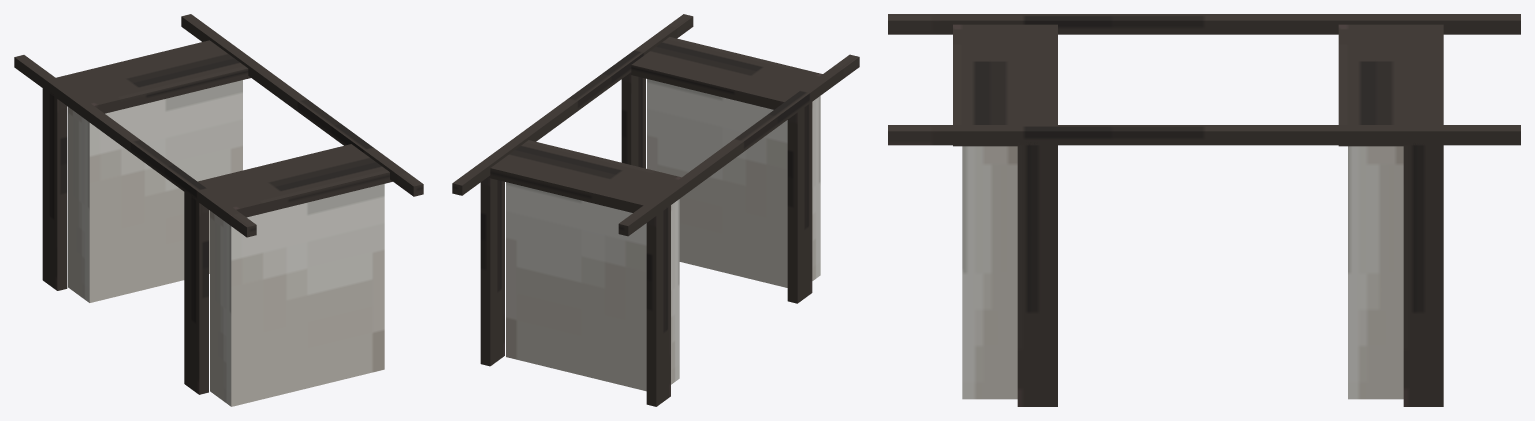
File: pz_house_bunk_foot.obj
3 views of the same model, side by side, from view 1: azimuth 30°, elevation 25°; view 2: azimuth 150°, elevation 25°; view 3: azimuth 270°, elevation 25° (orthographic). The views are drawn at different scales.
Visible parts, largest first — view 1: pz_house_bunk_foot_|_7_colchao, pz_house_bunk_foot_|_3_colchao, pz_house_bunk_foot_|_4_estrutura_madeira, pz_house_bunk_foot_|_8_estrutura_madeira, pz_house_bunk_foot_|_5_estrutura_madeira, pz_house_bunk_foot_|_1_estrutura_madeira, pz_house_bunk_foot_|_9_estrutura_madeira, pz_house_bunk_foot_|_2_estrutura_madeira; view 2: pz_house_bunk_foot_|_3_colchao, pz_house_bunk_foot_|_7_colchao, pz_house_bunk_foot_|_8_estrutura_madeira, pz_house_bunk_foot_|_4_estrutura_madeira, pz_house_bunk_foot_|_9_estrutura_madeira, pz_house_bunk_foot_|_1_estrutura_madeira, pz_house_bunk_foot_|_5_estrutura_madeira, pz_house_bunk_foot_|_6_estrutura_madeira, pz_house_bunk_foot_|_2_estrutura_madeira, pz_house_bunk_foot_|_10_estrutura_madeira; view 3: pz_house_bunk_foot_|_3_colchao, pz_house_bunk_foot_|_7_colchao, pz_house_bunk_foot_|_2_estrutura_madeira, pz_house_bunk_foot_|_1_estrutura_madeira, pz_house_bunk_foot_|_4_estrutura_madeira, pz_house_bunk_foot_|_10_estrutura_madeira, pz_house_bunk_foot_|_6_estrutura_madeira, pz_house_bunk_foot_|_8_estrutura_madeira.
Part boxes in pixels (box(x1,y1,x2,y2)): pz_house_bunk_foot_|_7_colchao: box(210, 184, 384, 406); pz_house_bunk_foot_|_3_colchao: box(68, 80, 242, 302); pz_house_bunk_foot_|_4_estrutura_madeira: box(56, 40, 250, 113); pz_house_bunk_foot_|_8_estrutura_madeira: box(197, 144, 392, 217); pz_house_bunk_foot_|_5_estrutura_madeira: box(42, 87, 67, 290); pz_house_bunk_foot_|_1_estrutura_madeira: box(14, 55, 256, 237); pz_house_bunk_foot_|_9_estrutura_madeira: box(184, 190, 208, 394); pz_house_bunk_foot_|_2_estrutura_madeira: box(181, 14, 423, 196); pz_house_bunk_foot_|_3_colchao: box(506, 182, 679, 391); pz_house_bunk_foot_|_7_colchao: box(647, 79, 820, 287); pz_house_bunk_foot_|_8_estrutura_madeira: box(629, 37, 822, 109); pz_house_bunk_foot_|_4_estrutura_madeira: box(488, 140, 681, 212); pz_house_bunk_foot_|_9_estrutura_madeira: box(787, 102, 812, 303); pz_house_bunk_foot_|_1_estrutura_madeira: box(618, 54, 859, 236); pz_house_bunk_foot_|_5_estrutura_madeira: box(646, 205, 670, 406); pz_house_bunk_foot_|_6_estrutura_madeira: box(480, 176, 504, 366); pz_house_bunk_foot_|_2_estrutura_madeira: box(452, 14, 693, 195); pz_house_bunk_foot_|_10_estrutura_madeira: box(621, 72, 645, 168); pz_house_bunk_foot_|_3_colchao: box(1348, 146, 1403, 399); pz_house_bunk_foot_|_7_colchao: box(962, 146, 1017, 399); pz_house_bunk_foot_|_2_estrutura_madeira: box(888, 125, 1520, 145); pz_house_bunk_foot_|_1_estrutura_madeira: box(888, 14, 1520, 34); pz_house_bunk_foot_|_4_estrutura_madeira: box(1338, 24, 1443, 146); pz_house_bunk_foot_|_10_estrutura_madeira: box(1017, 142, 1057, 406); pz_house_bunk_foot_|_6_estrutura_madeira: box(1403, 143, 1443, 406); pz_house_bunk_foot_|_8_estrutura_madeira: box(953, 24, 1057, 146).
Bounding box in the file's own units: 0.9 × 0.985 × 2.05.
Materials: 1 (1 with a texture image).
